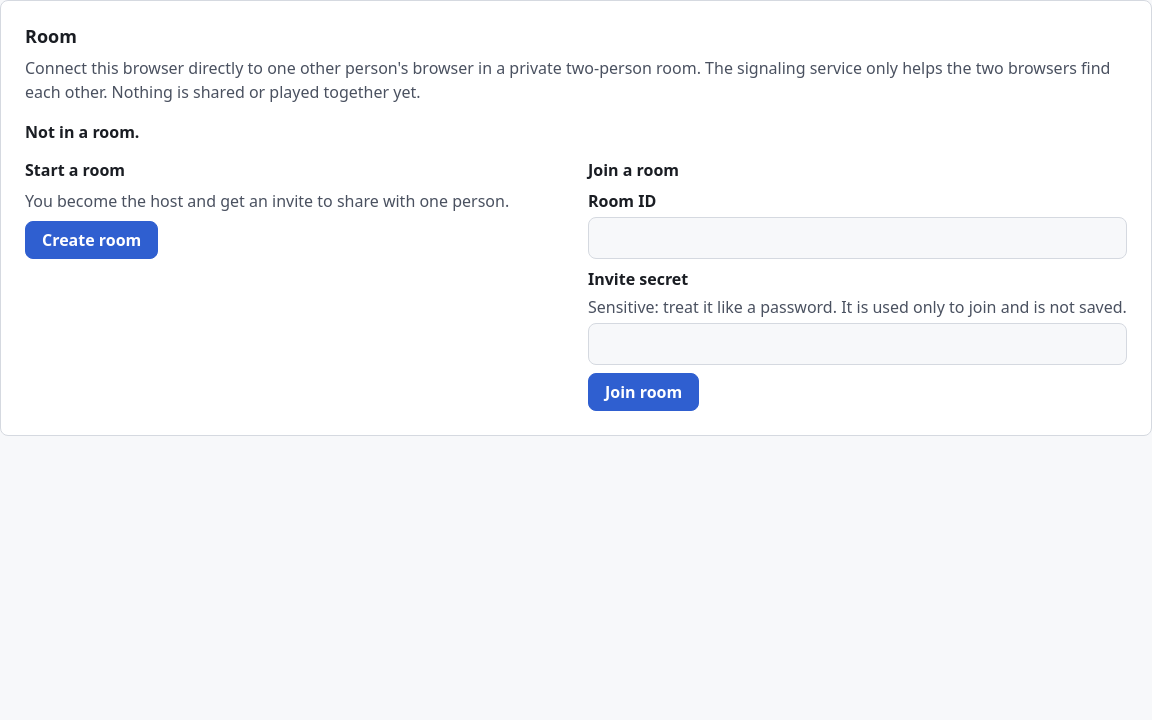
Test: RoomPanel › says when the room session could not be recovered
Click the button "Create room": coordinates (92, 240) [25, 221, 158, 259]
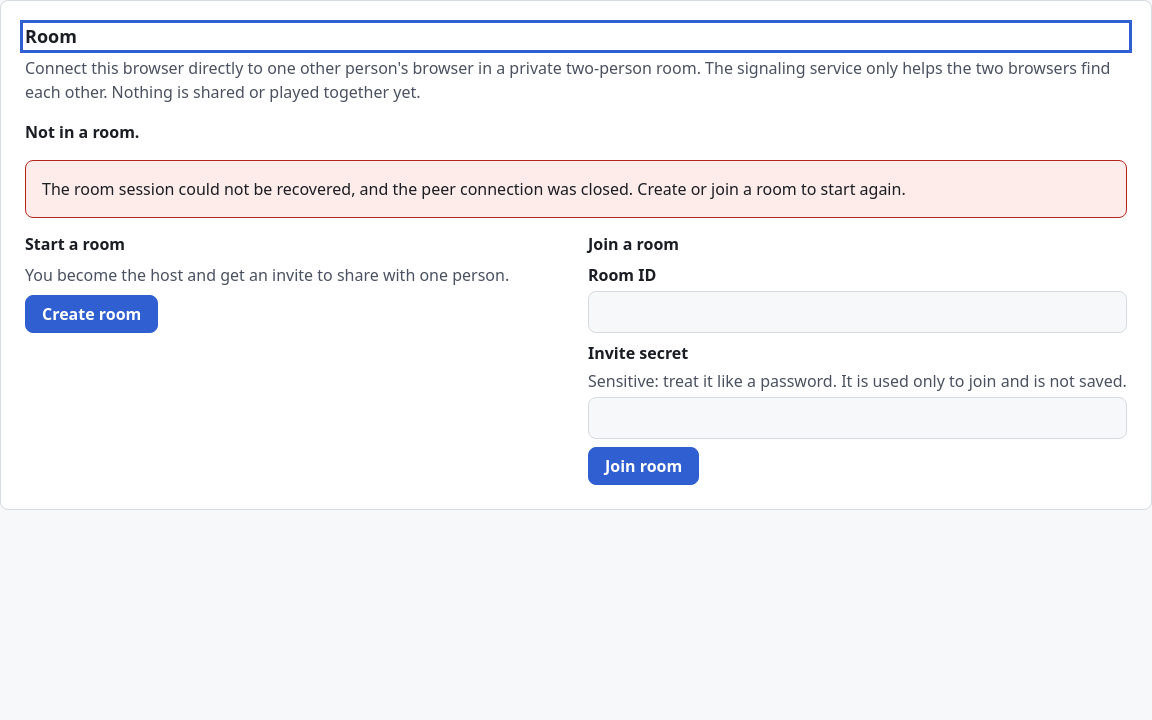
Expected: the button "Create room" is shown, [25, 295, 158, 333]
Now the 2nd message shows "The room session could not be recovered, and the peer connection was closed. Create or join a room to start again.", box [42, 178, 906, 200]
